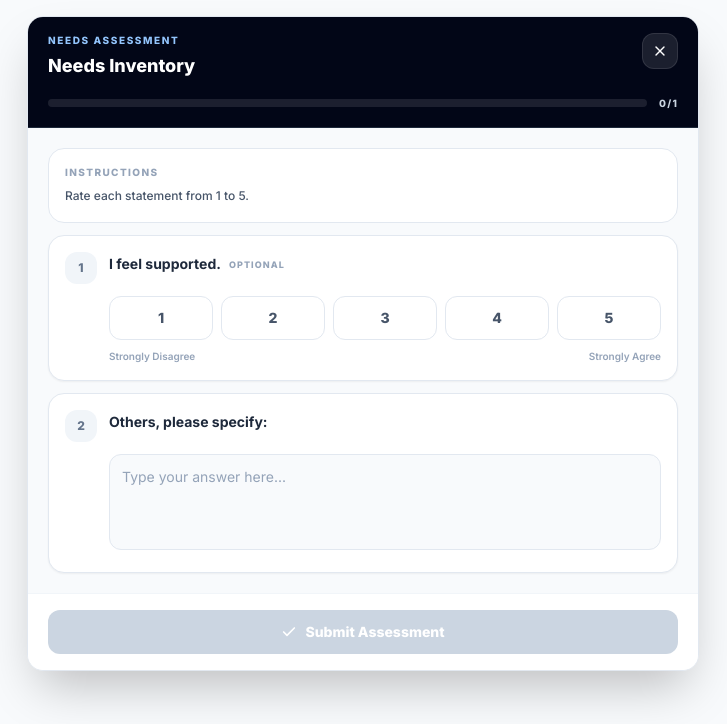
AssessmentFormModal › blocks submit until every required question is answered, optional ones aside
This screenshot has width=727, height=724.
Expected: the button "Submit Assessment" is disabled, [48,610,678,654]
Click the button "4" at [497, 318], box [445,296,549,340]
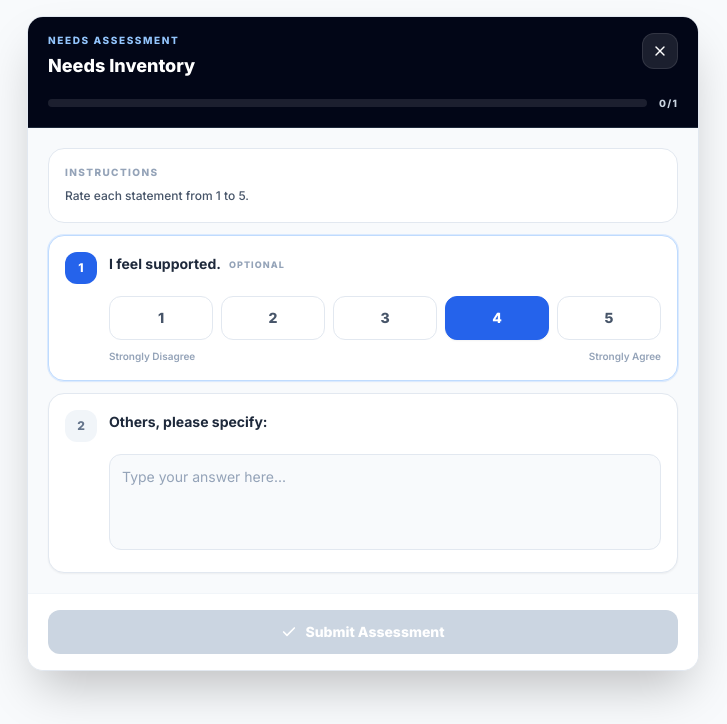
Expected: the button "Submit Assessment" is disabled, [48,610,678,654]
Type "Financial assistance" into the text box with placeholder "Type your answer here..." at [385, 502], box [109,454,661,550]
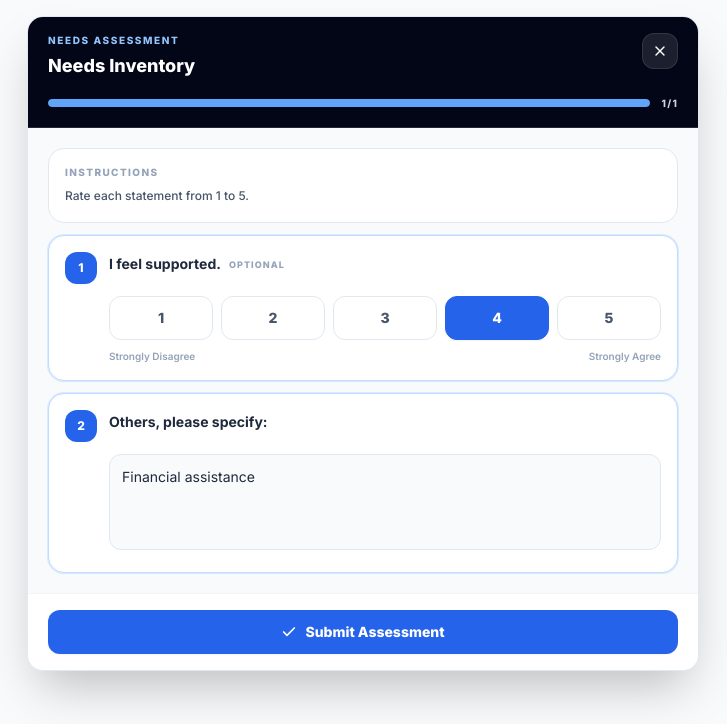
Expected: the button "Submit Assessment" is enabled, [48,610,678,654]
